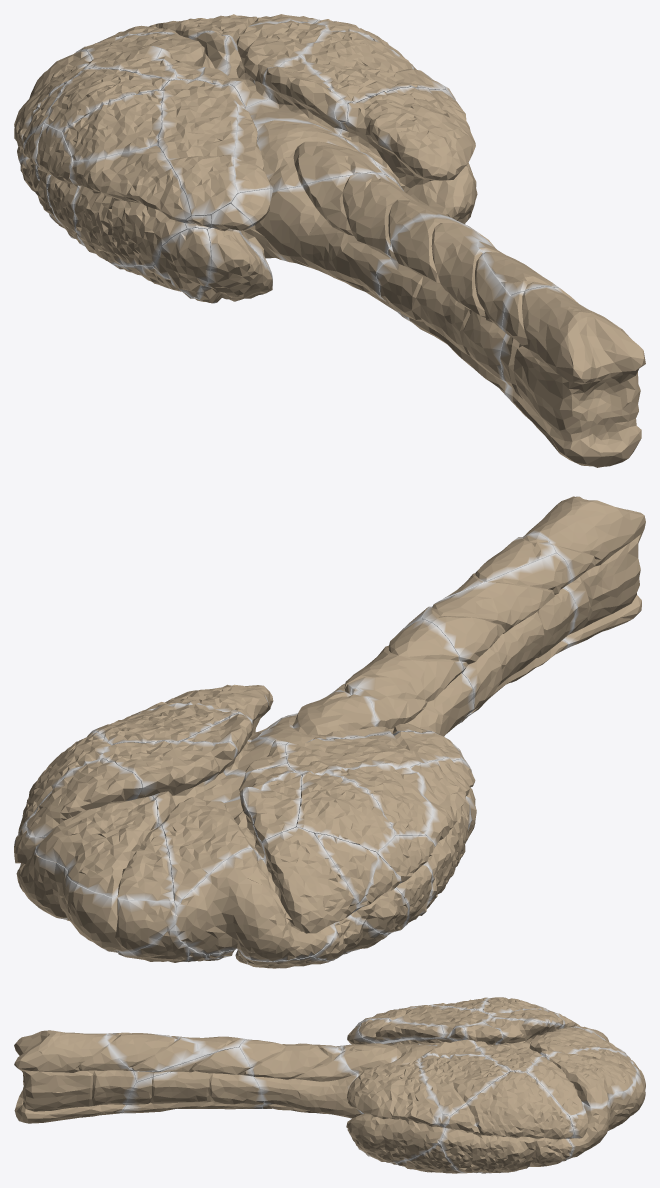
Rendered from break_an.fbx.
3 views of the same model, one above another, from view 1: azimuth 30°, elevation 25°; view 2: azimuth 150°, elevation 25°; view 3: azimuth 270°, elevation 25° (orthographic). The views are drawn at different scales.
Parts seen in each view (by area): view 1: uploads_files_5327334_ankylosaurus_tail_ply_cell.042, uploads_files_5327334_ankylosaurus_tail_ply_cell.003, uploads_files_5327334_ankylosaurus_tail_ply_cell.021, uploads_files_5327334_ankylosaurus_tail_ply_cell.039, uploads_files_5327334_ankylosaurus_tail_ply_cell.019, uploads_files_5327334_ankylosaurus_tail_ply_cell.013, uploads_files_5327334_ankylosaurus_tail_ply_cell.010, uploads_files_5327334_ankylosaurus_tail_ply_cell.014, uploads_files_5327334_ankylosaurus_tail_ply_cell.028, uploads_files_5327334_ankylosaurus_tail_ply_cell.037, uploads_files_5327334_ankylosaurus_tail_ply_cell.006, uploads_files_5327334_ankylosaurus_tail_ply_cell.005 (+12 smaller); view 2: uploads_files_5327334_ankylosaurus_tail_ply_cell.027, uploads_files_5327334_ankylosaurus_tail_ply_cell.012, uploads_files_5327334_ankylosaurus_tail_ply_cell.021, uploads_files_5327334_ankylosaurus_tail_ply_cell.042, uploads_files_5327334_ankylosaurus_tail_ply_cell.003, uploads_files_5327334_ankylosaurus_tail_ply_cell.008, uploads_files_5327334_ankylosaurus_tail_ply_cell.024, uploads_files_5327334_ankylosaurus_tail_ply_cell.037, uploads_files_5327334_ankylosaurus_tail_ply_cell.013, uploads_files_5327334_ankylosaurus_tail_ply_cell.045, uploads_files_5327334_ankylosaurus_tail_ply_cell.019, uploads_files_5327334_ankylosaurus_tail_ply_cell.028 (+14 smaller); view 3: uploads_files_5327334_ankylosaurus_tail_ply_cell.040, uploads_files_5327334_ankylosaurus_tail_ply_cell.042, uploads_files_5327334_ankylosaurus_tail_ply_cell.039, uploads_files_5327334_ankylosaurus_tail_ply_cell.003, uploads_files_5327334_ankylosaurus_tail_ply_cell.015, uploads_files_5327334_ankylosaurus_tail_ply_cell.012, uploads_files_5327334_ankylosaurus_tail_ply_cell.014, uploads_files_5327334_ankylosaurus_tail_ply_cell.024, uploads_files_5327334_ankylosaurus_tail_ply_cell.008, uploads_files_5327334_ankylosaurus_tail_ply_cell.022, uploads_files_5327334_ankylosaurus_tail_ply_cell.013, uploads_files_5327334_ankylosaurus_tail_ply_cell.010 (+9 smaller).
Boxes of the visible parts, bbox=[...] form: uploads_files_5327334_ankylosaurus_tail_ply_cell.042: bbox=[499, 286, 645, 467]; uploads_files_5327334_ankylosaurus_tail_ply_cell.003: bbox=[231, 172, 454, 314]; uploads_files_5327334_ankylosaurus_tail_ply_cell.021: bbox=[376, 215, 510, 395]; uploads_files_5327334_ankylosaurus_tail_ply_cell.039: bbox=[338, 86, 477, 223]; uploads_files_5327334_ankylosaurus_tail_ply_cell.019: bbox=[70, 145, 190, 266]; uploads_files_5327334_ankylosaurus_tail_ply_cell.013: bbox=[157, 79, 246, 229]; uploads_files_5327334_ankylosaurus_tail_ply_cell.010: bbox=[255, 120, 384, 191]; uploads_files_5327334_ankylosaurus_tail_ply_cell.014: bbox=[301, 29, 445, 103]; uploads_files_5327334_ankylosaurus_tail_ply_cell.028: bbox=[62, 90, 162, 161]; uploads_files_5327334_ankylosaurus_tail_ply_cell.037: bbox=[197, 20, 328, 107]; uploads_files_5327334_ankylosaurus_tail_ply_cell.006: bbox=[198, 203, 272, 303]; uploads_files_5327334_ankylosaurus_tail_ply_cell.005: bbox=[246, 56, 348, 135]; uploads_files_5327334_ankylosaurus_tail_ply_cell.027: bbox=[175, 827, 358, 961]; uploads_files_5327334_ankylosaurus_tail_ply_cell.012: bbox=[26, 759, 173, 901]; uploads_files_5327334_ankylosaurus_tail_ply_cell.021: bbox=[421, 553, 577, 713]; uploads_files_5327334_ankylosaurus_tail_ply_cell.042: bbox=[486, 496, 645, 648]; uploads_files_5327334_ankylosaurus_tail_ply_cell.003: bbox=[297, 619, 474, 736]; uploads_files_5327334_ankylosaurus_tail_ply_cell.008: bbox=[14, 822, 176, 952]; uploads_files_5327334_ankylosaurus_tail_ply_cell.024: bbox=[152, 763, 295, 907]; uploads_files_5327334_ankylosaurus_tail_ply_cell.037: bbox=[101, 741, 287, 806]; uploads_files_5327334_ankylosaurus_tail_ply_cell.013: bbox=[285, 731, 470, 775]; uploads_files_5327334_ankylosaurus_tail_ply_cell.045: bbox=[296, 771, 394, 852]; uploads_files_5327334_ankylosaurus_tail_ply_cell.019: bbox=[410, 757, 475, 919]; uploads_files_5327334_ankylosaurus_tail_ply_cell.028: bbox=[325, 764, 432, 835]; uploads_files_5327334_ankylosaurus_tail_ply_cell.040: bbox=[441, 1070, 573, 1173]; uploads_files_5327334_ankylosaurus_tail_ply_cell.042: bbox=[14, 1030, 136, 1123]; uploads_files_5327334_ankylosaurus_tail_ply_cell.039: bbox=[346, 1059, 445, 1163]; uploads_files_5327334_ankylosaurus_tail_ply_cell.003: bbox=[239, 1023, 375, 1118]; uploads_files_5327334_ankylosaurus_tail_ply_cell.015: bbox=[123, 1047, 263, 1113]; uploads_files_5327334_ankylosaurus_tail_ply_cell.012: bbox=[528, 1047, 637, 1115]; uploads_files_5327334_ankylosaurus_tail_ply_cell.014: bbox=[418, 1053, 509, 1116]; uploads_files_5327334_ankylosaurus_tail_ply_cell.024: bbox=[483, 1017, 627, 1057]; uploads_files_5327334_ankylosaurus_tail_ply_cell.008: bbox=[567, 1057, 645, 1159]; uploads_files_5327334_ankylosaurus_tail_ply_cell.022: bbox=[106, 1032, 201, 1071]; uploads_files_5327334_ankylosaurus_tail_ply_cell.013: bbox=[358, 1005, 491, 1045]; uploads_files_5327334_ankylosaurus_tail_ply_cell.010: bbox=[337, 1043, 436, 1076].
Bounding box in the file's own units: 175 × 79.57 × 411.
